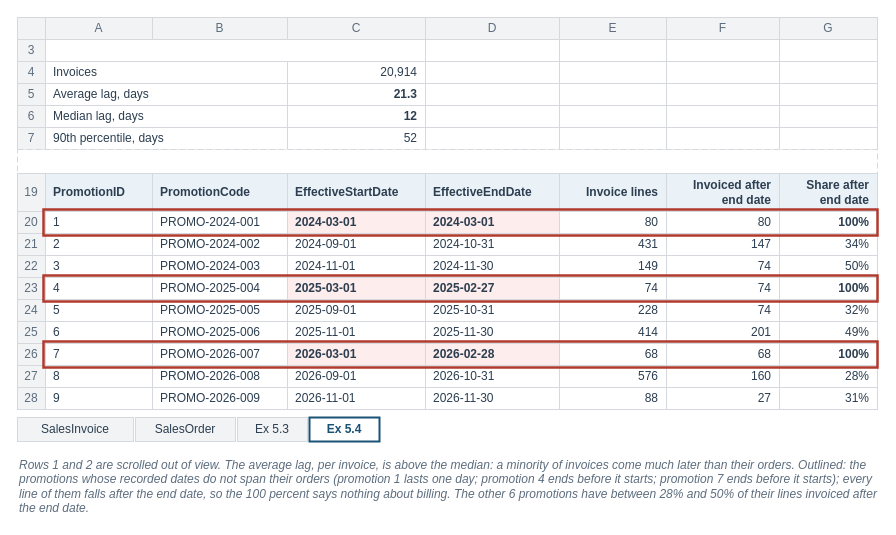
This 896x535 diagram has some shape labels left out. Each missing label, with the centre of its shape:
"Days from order to invoice, all invoices" belongs at pixel 235 50.
"rows 8 to 18 hold the summary by quarter; not shown" belongs at pixel 447 161.
